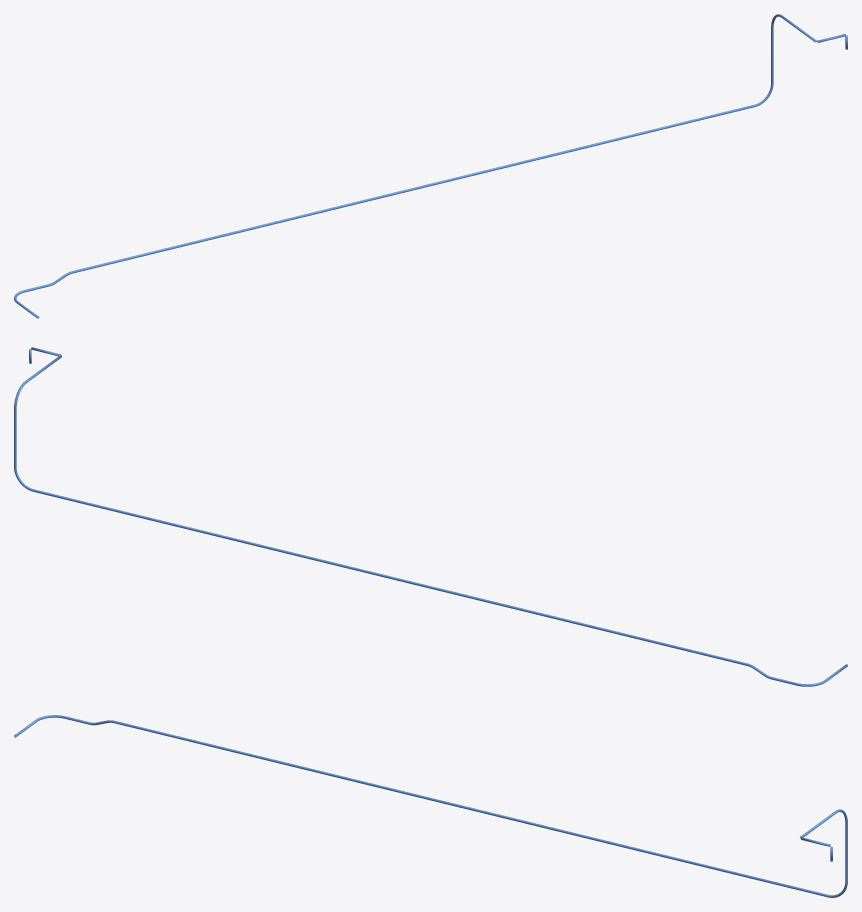
Rendered from pipes_supply__water-city_filter_and_softener-yes_and_plumbing-pex__r4t.glb.
3 views of the same model, one above another, from view 1: azimuth 30°, elevation 25°; view 2: azimuth 150°, elevation 25°; view 3: azimuth 330°, elevation 25° (orthographic). The views are drawn at different scales.
Visible parts, largest first — view 1: pipe_supply_to_softener__pex; view 2: pipe_supply_to_softener__pex; view 3: pipe_supply_to_softener__pex.
Part boxes in pixels (x1,y1,x2,y2): pipe_supply_to_softener__pex: (14, 14, 847, 318); pipe_supply_to_softener__pex: (14, 347, 847, 686); pipe_supply_to_softener__pex: (14, 715, 847, 897).
Size of the model in its own units: 8.06 by 0.9822 by 0.8013.
